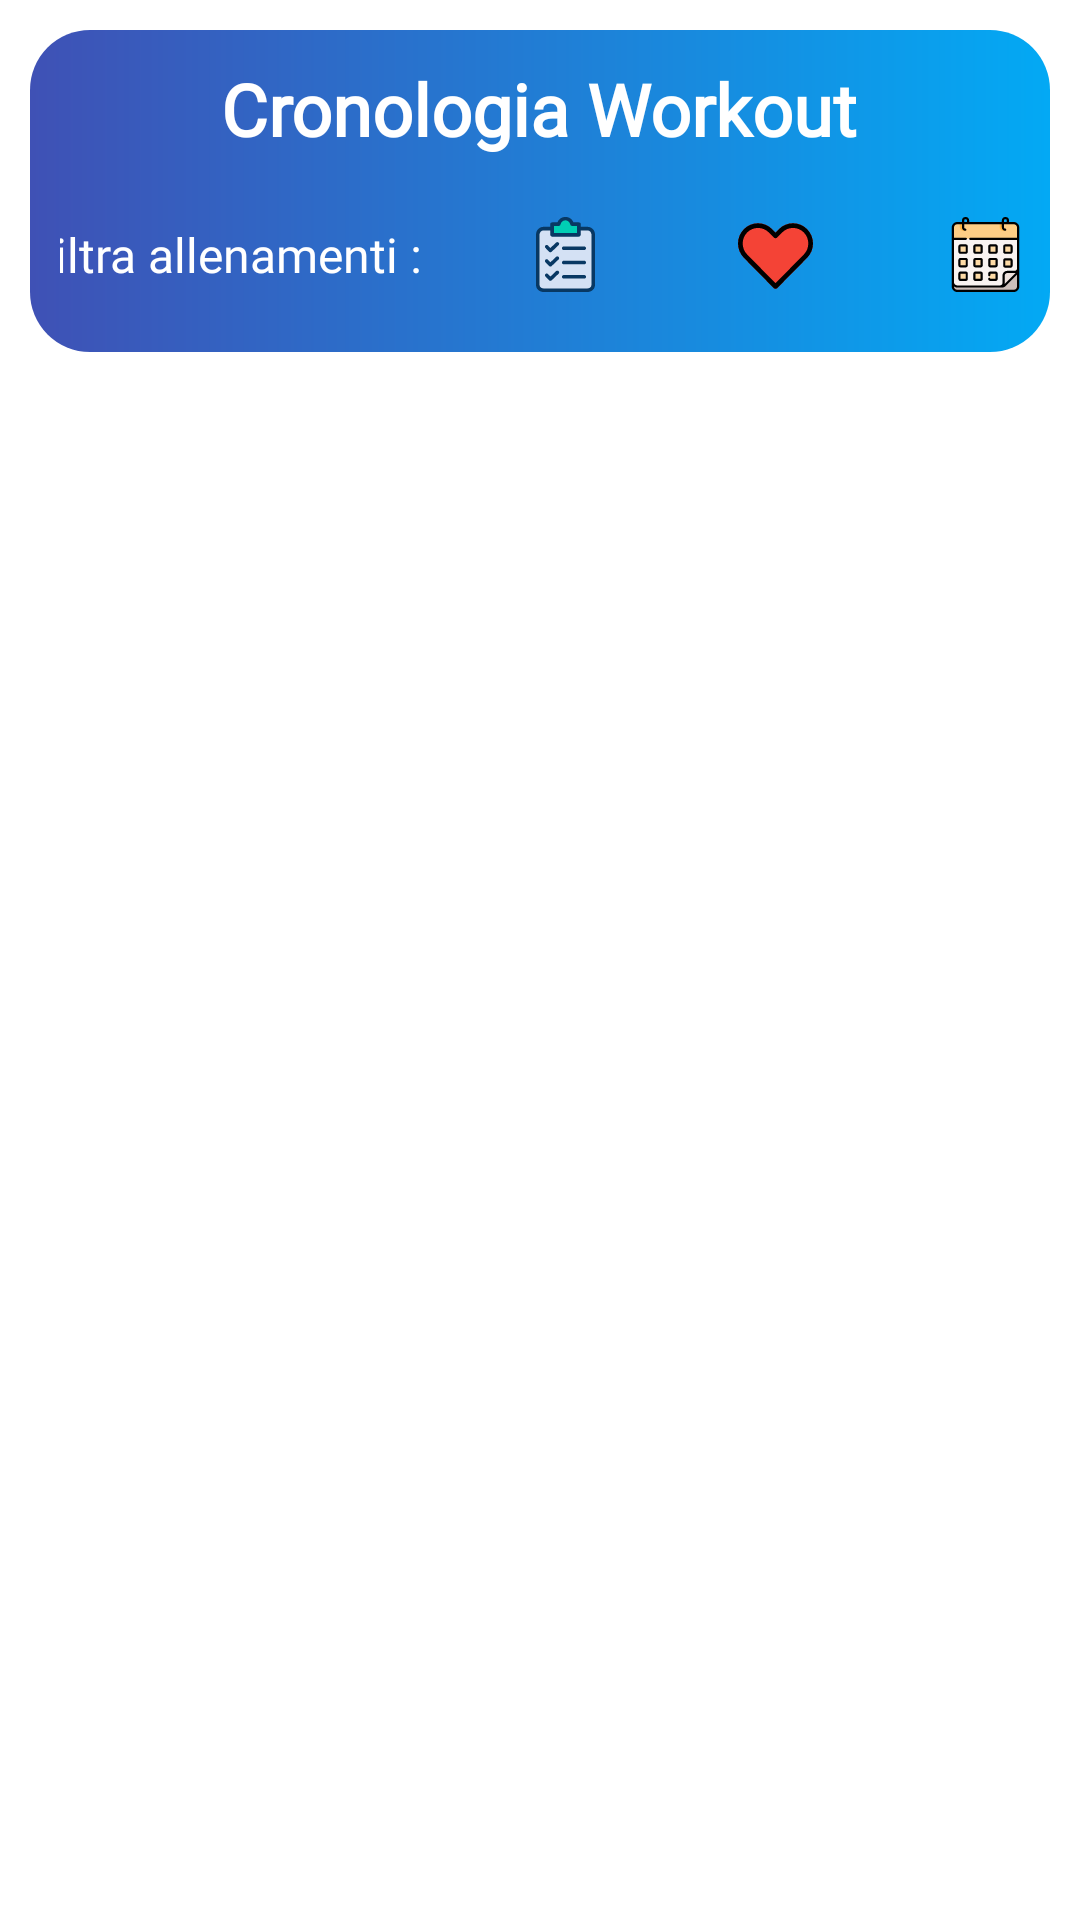

Icons on this 1080w x 1920h Android screen, each with the point to tap as point (x, y):
clipboard: point (565, 254)
heart: point (775, 256)
